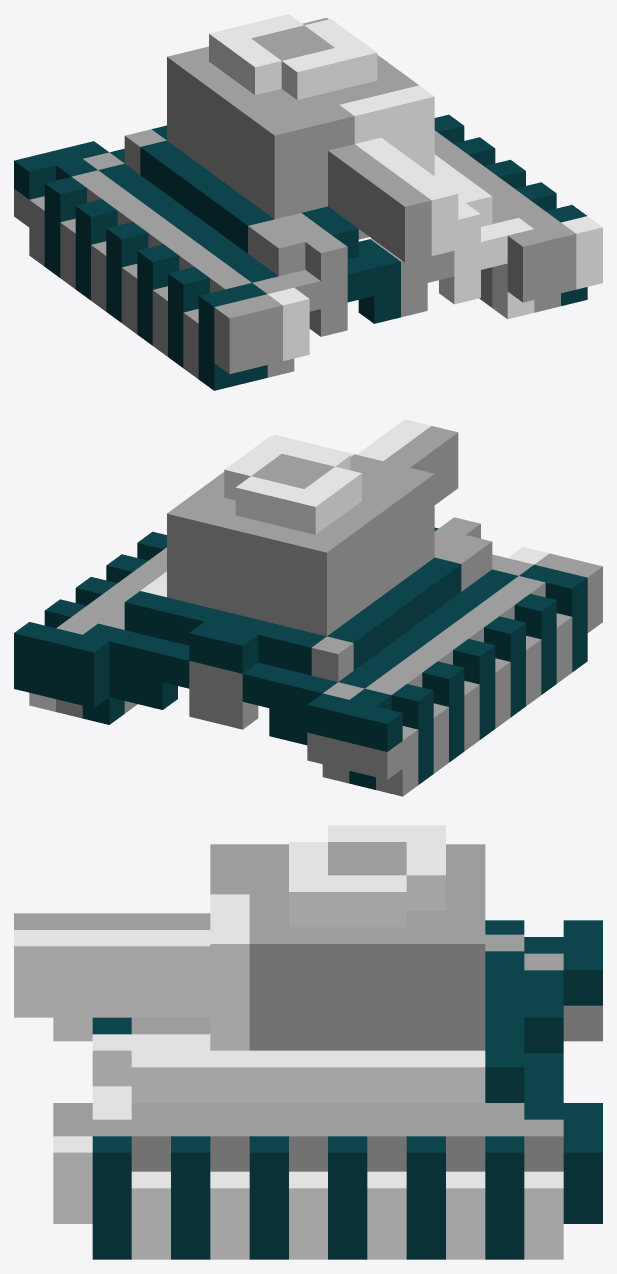
File: GreyTankT4.fbx
The picture shows the model from 3 angles, top to bottom: view 1: azimuth 30°, elevation 25°; view 2: azimuth 150°, elevation 25°; view 3: azimuth 270°, elevation 25°; orthographic projection. The views are drawn at different scales.
Visible parts, largest first — view 1: BC1.003; view 2: BC1.003; view 3: BC1.003.
Boxes of the visible parts, bbox=[...] form: BC1.003: bbox=[14, 14, 602, 390]; BC1.003: bbox=[14, 419, 602, 796]; BC1.003: bbox=[14, 825, 602, 1259].
Size of the model in its own units: 1400 by 800 by 1500.
